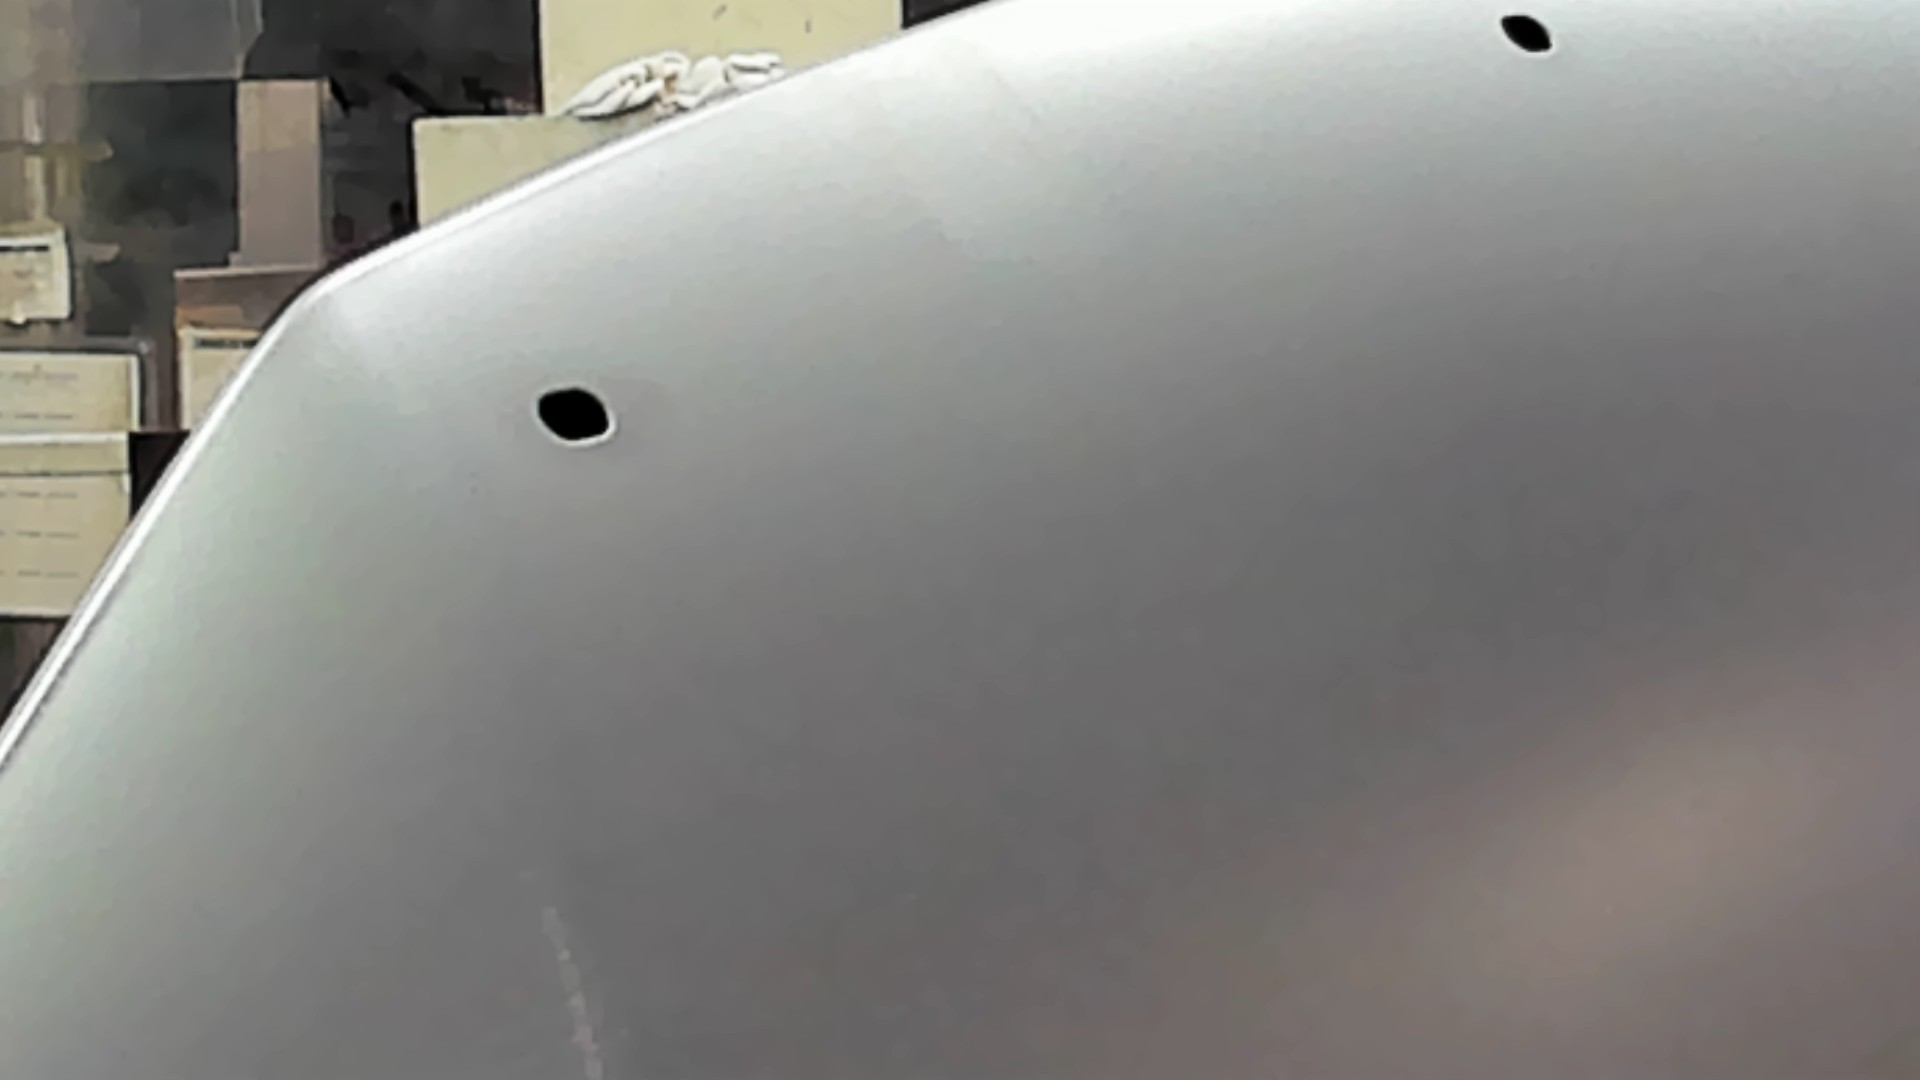amorfo: (525, 378, 621, 454), (1491, 9, 1565, 61)
capo: (765, 115, 1920, 1080)
